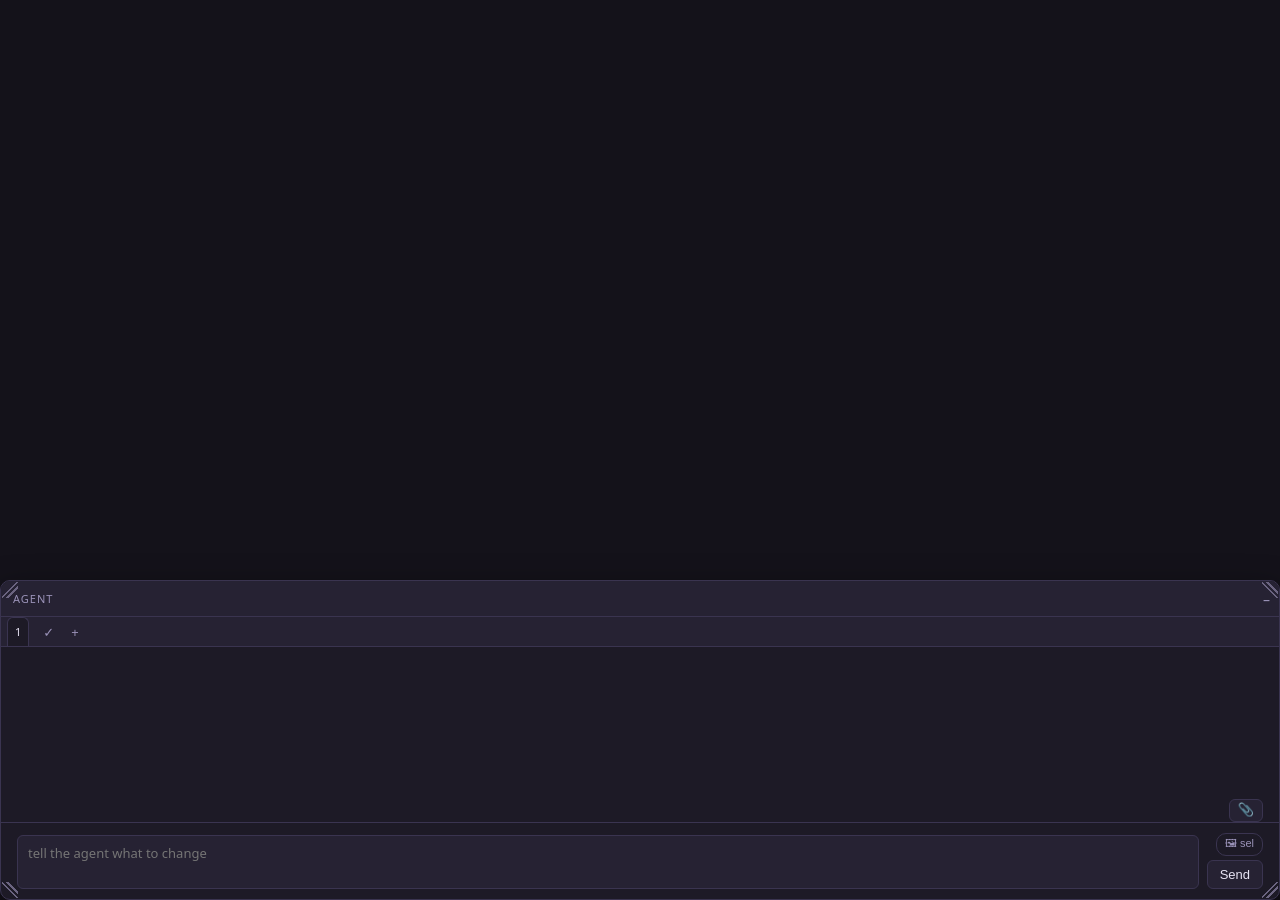
it: FloatingChat › tabs hold separate agent contexts
The width and height of the screenshot is (1280, 900).
Type "hello tab one" into the text box named "message the agent" at [608, 862], box 17,835 -> 1199,889
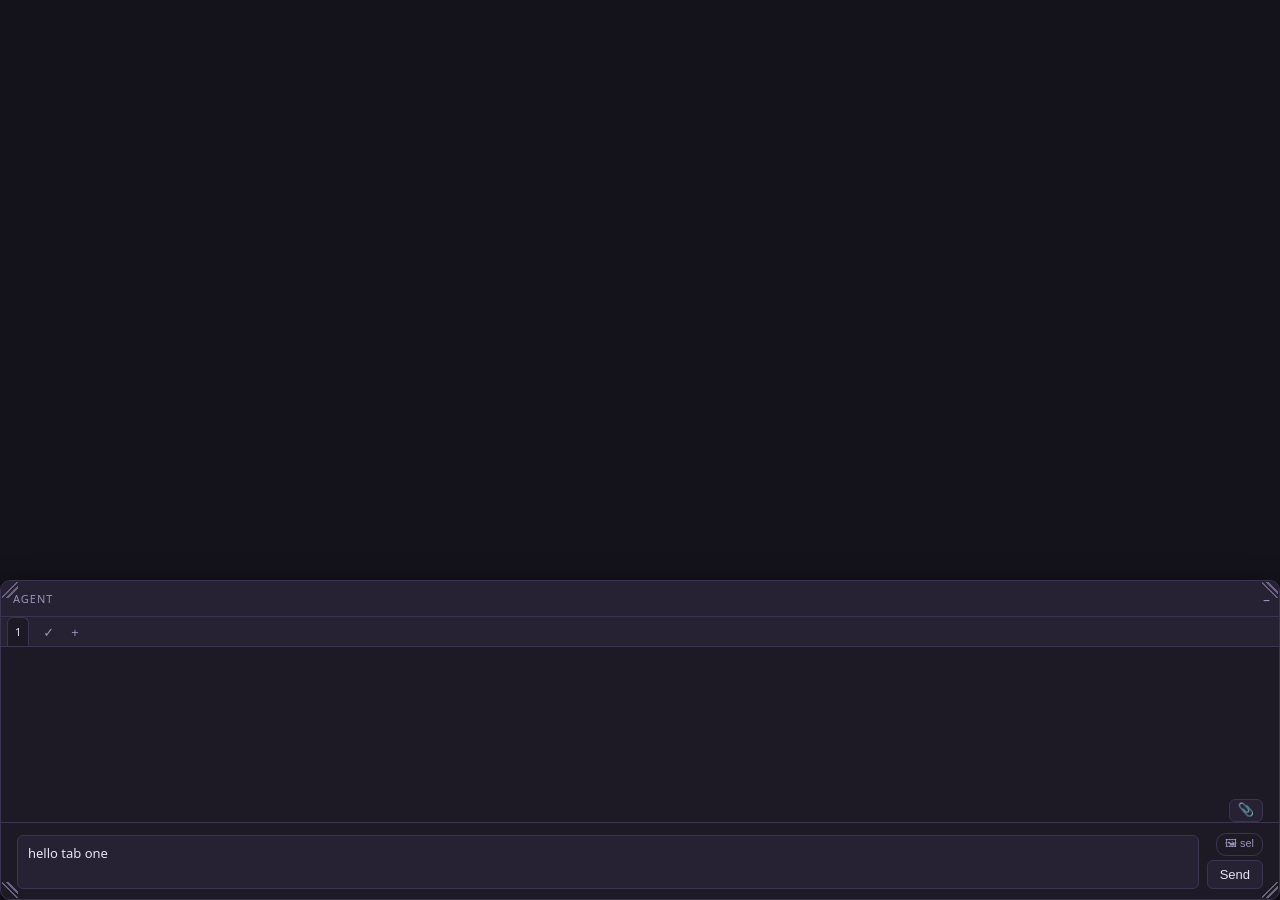
Click the button "Send" at [1235, 874], box 1207,860 -> 1263,889
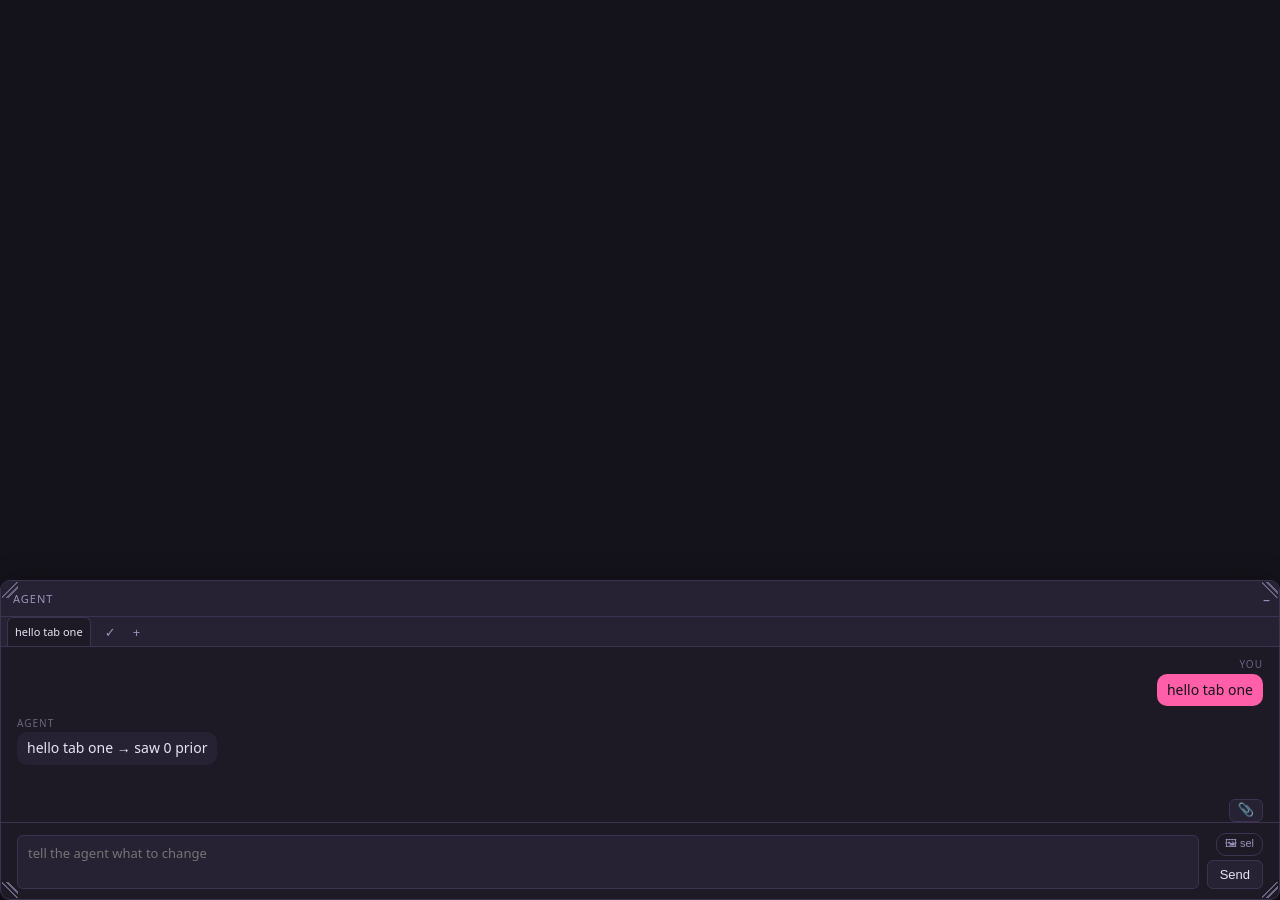
Result: the text "hello tab one → saw 0 prior" is shown at 17,732 -> 218,765
Click the button named "new chat session" at [134, 632], box 121,617 -> 147,646
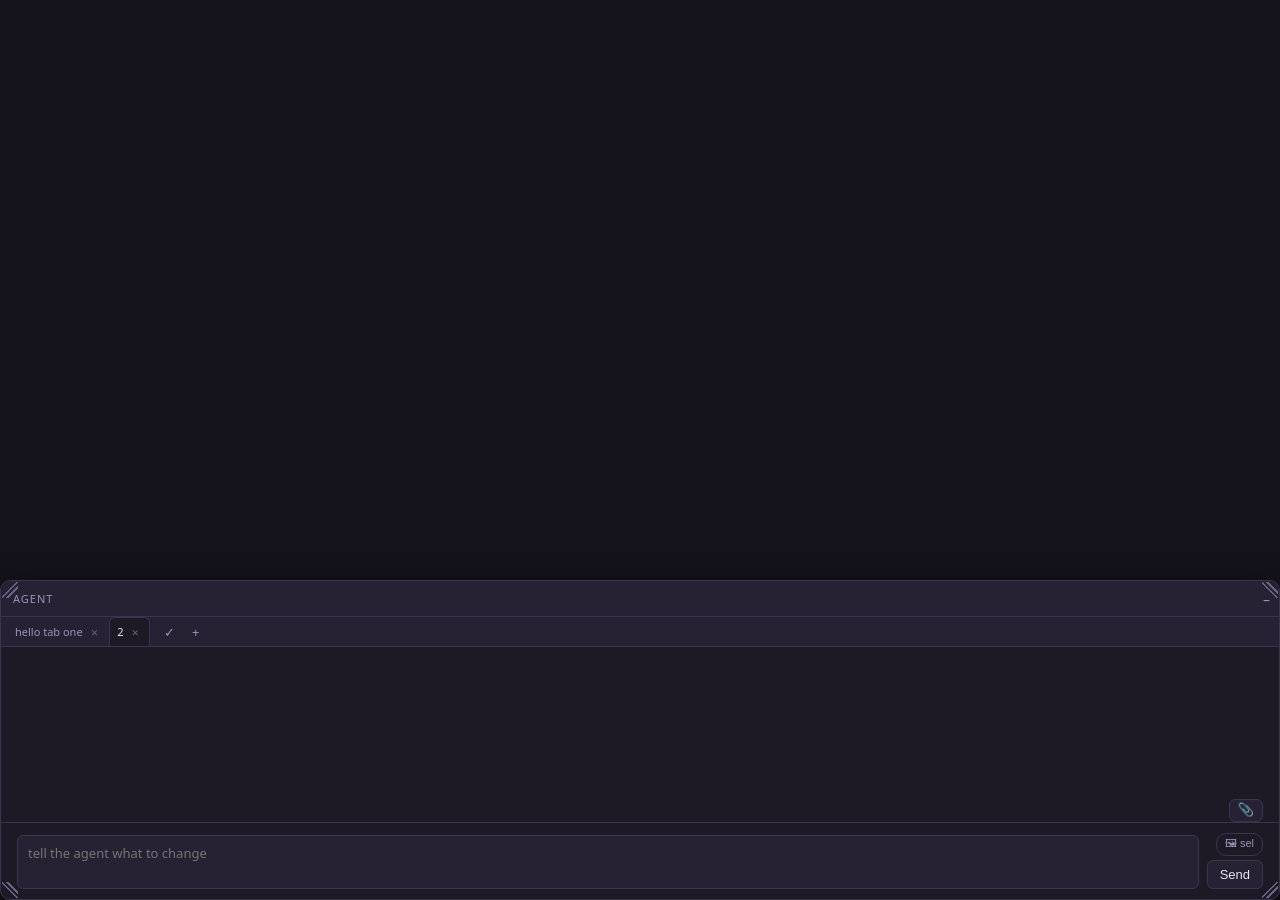
Result: the text "hello tab one → saw 0 prior" is gone
Type "hello tab two" into the text box named "message the agent" at [608, 862], box 17,835 -> 1199,889
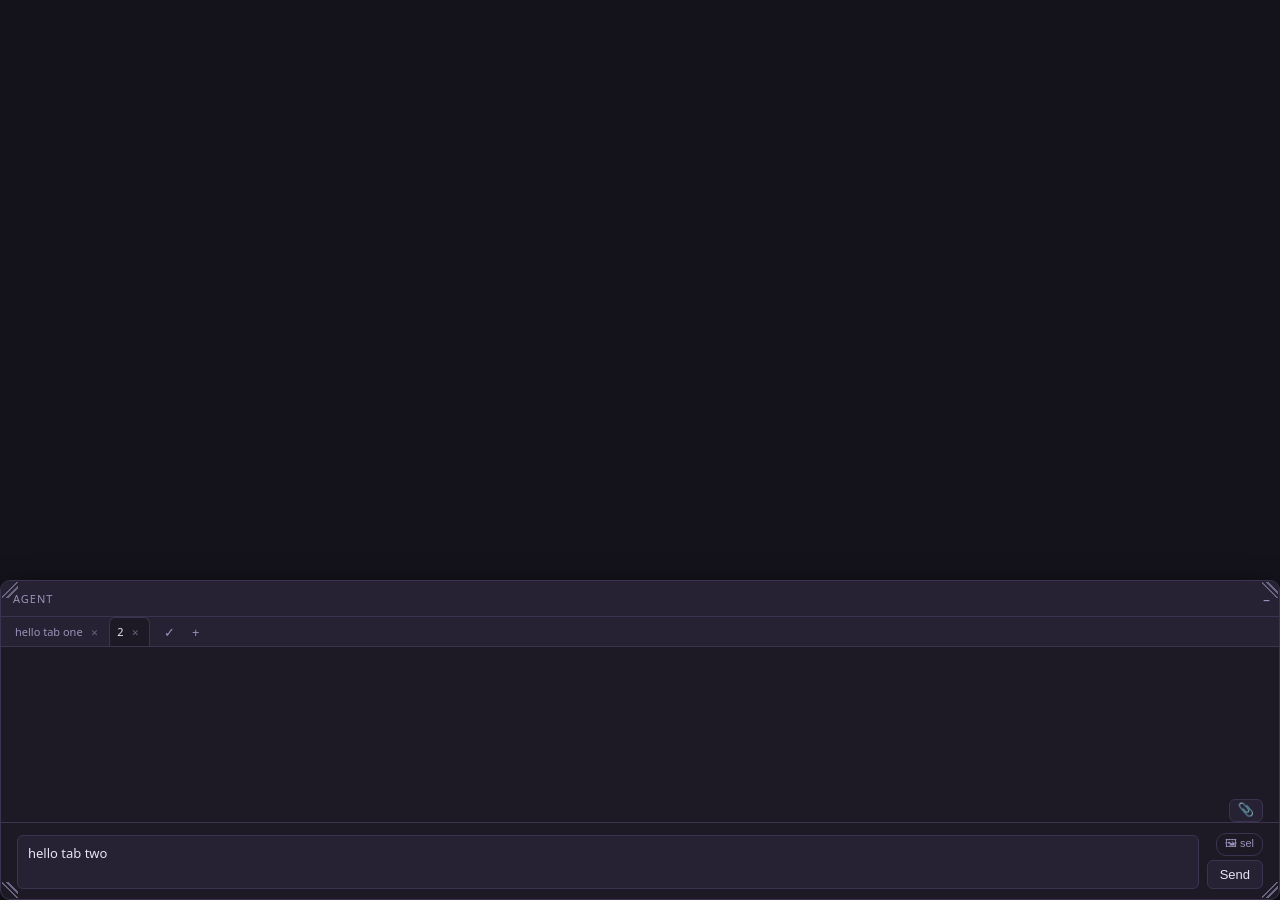
Click the button "Send" at [1235, 874], box 1207,860 -> 1263,889
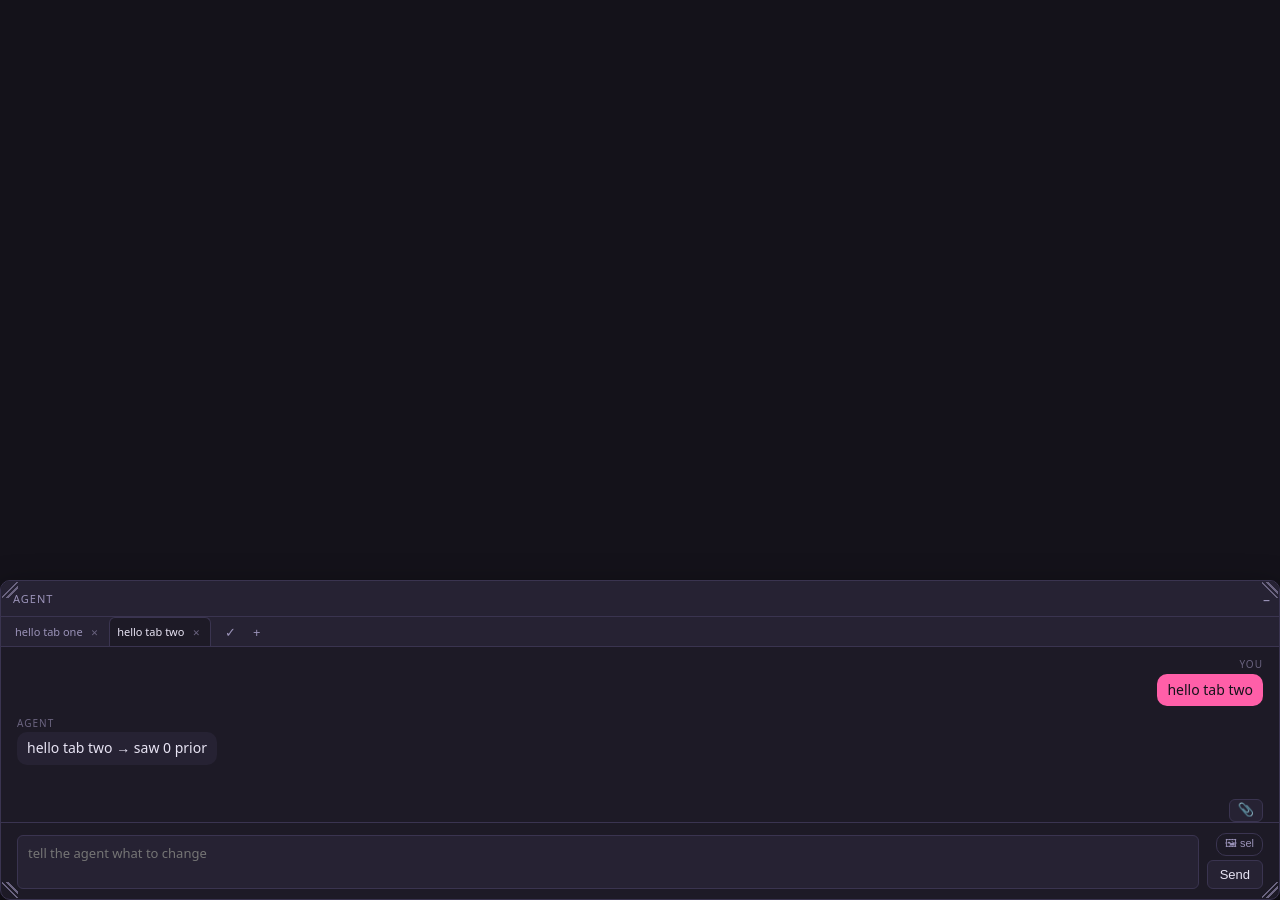
Result: the text "hello tab two → saw 0 prior" is shown at 17,732 -> 217,765
Note: switching back brings tab one's conversation back
Click the tab "hello tab one ✕" at [58, 632], box 15,624 -> 101,640
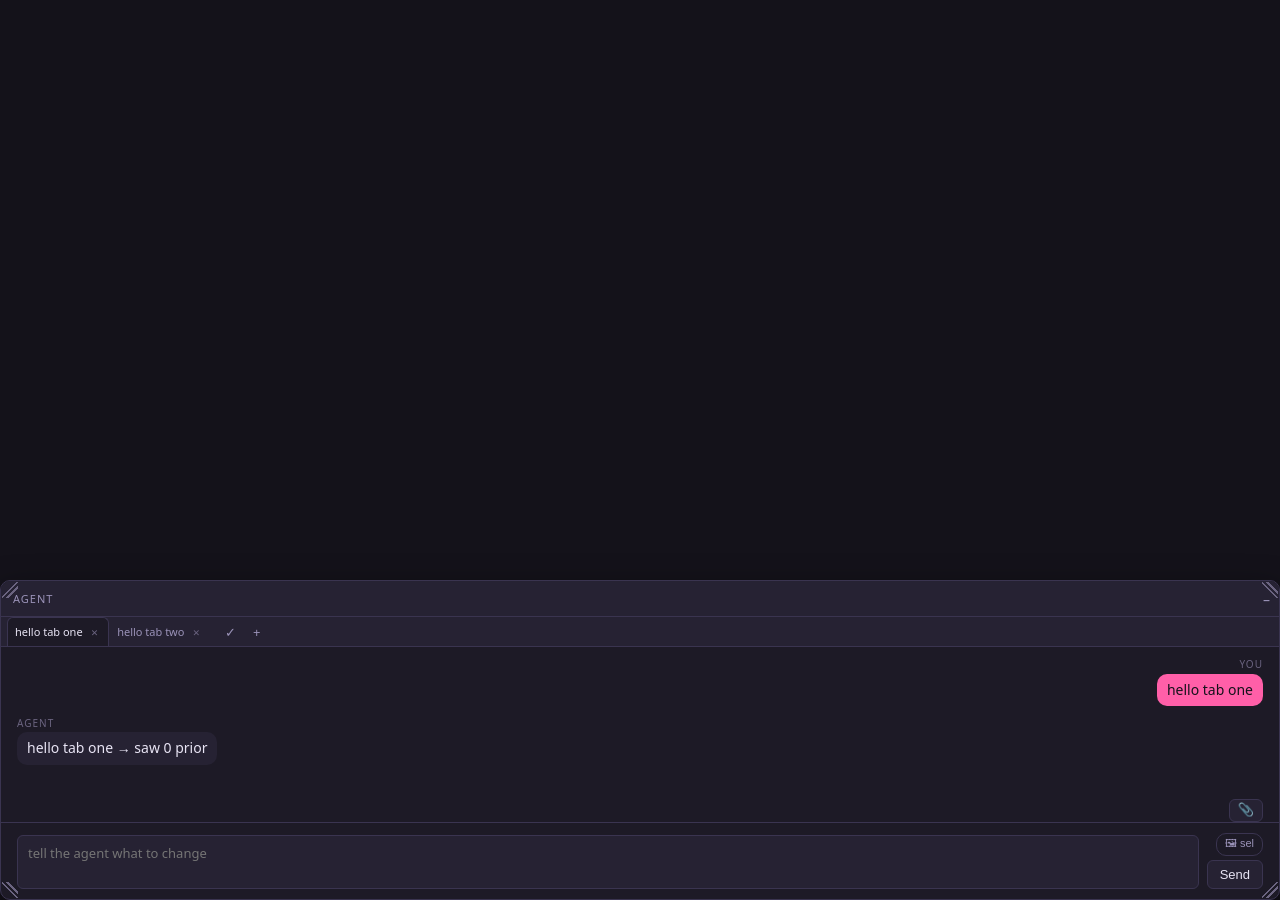
Result: the text "hello tab one → saw 0 prior" is shown at 17,732 -> 218,765
